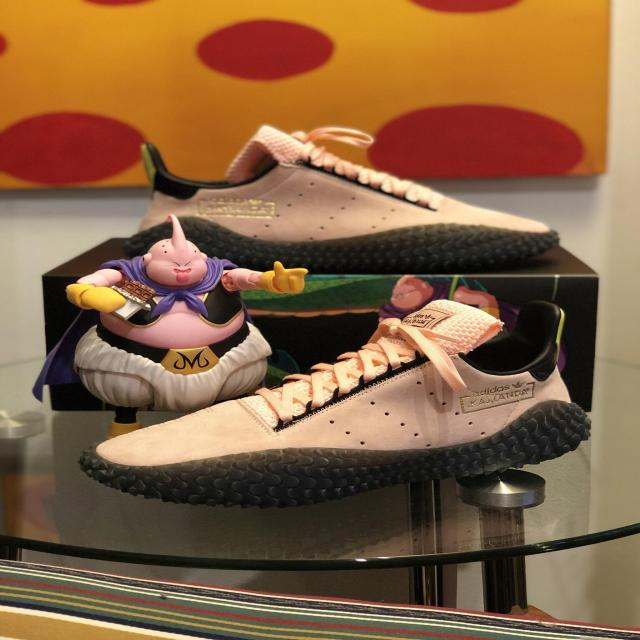shoe: (84, 305, 607, 514), (103, 100, 571, 280)
